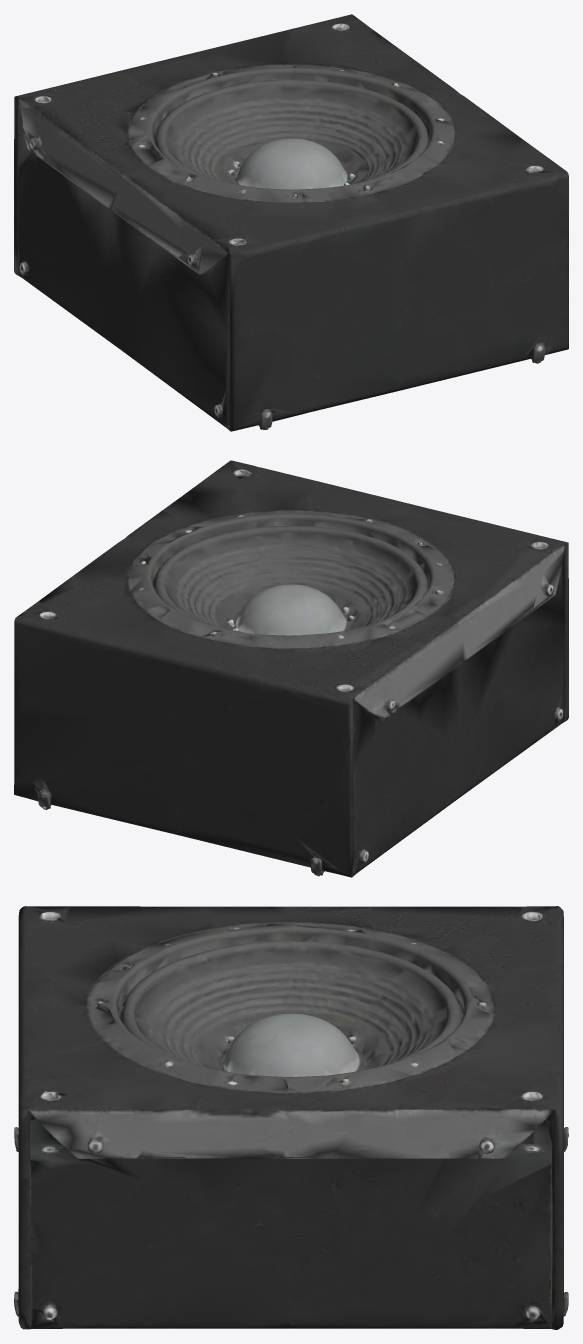
The model's file is iblo-parlante.72974b9c.glb.
3 views of the same model, one above another, from view 1: azimuth 30°, elevation 25°; view 2: azimuth 150°, elevation 25°; view 3: azimuth 270°, elevation 25° (orthographic). The views are drawn at different scales.
Visible parts, largest first — view 1: tripo_node_3a41e85e-2926-4a00-8596-01c38830bd16; view 2: tripo_node_3a41e85e-2926-4a00-8596-01c38830bd16; view 3: tripo_node_3a41e85e-2926-4a00-8596-01c38830bd16.
Part boxes in pixels (x1,y1,x2,y2): tripo_node_3a41e85e-2926-4a00-8596-01c38830bd16: (14, 14, 568, 431); tripo_node_3a41e85e-2926-4a00-8596-01c38830bd16: (14, 460, 568, 877); tripo_node_3a41e85e-2926-4a00-8596-01c38830bd16: (14, 906, 568, 1329).
Size of the model in its own units: 0.9311 by 0.4616 by 0.9958.
Materials: 1 (1 with a texture image).
